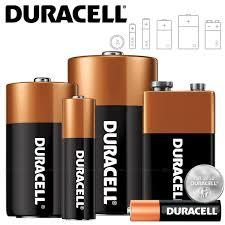AA: (59, 90, 98, 222)
AAA: (126, 194, 225, 224)
